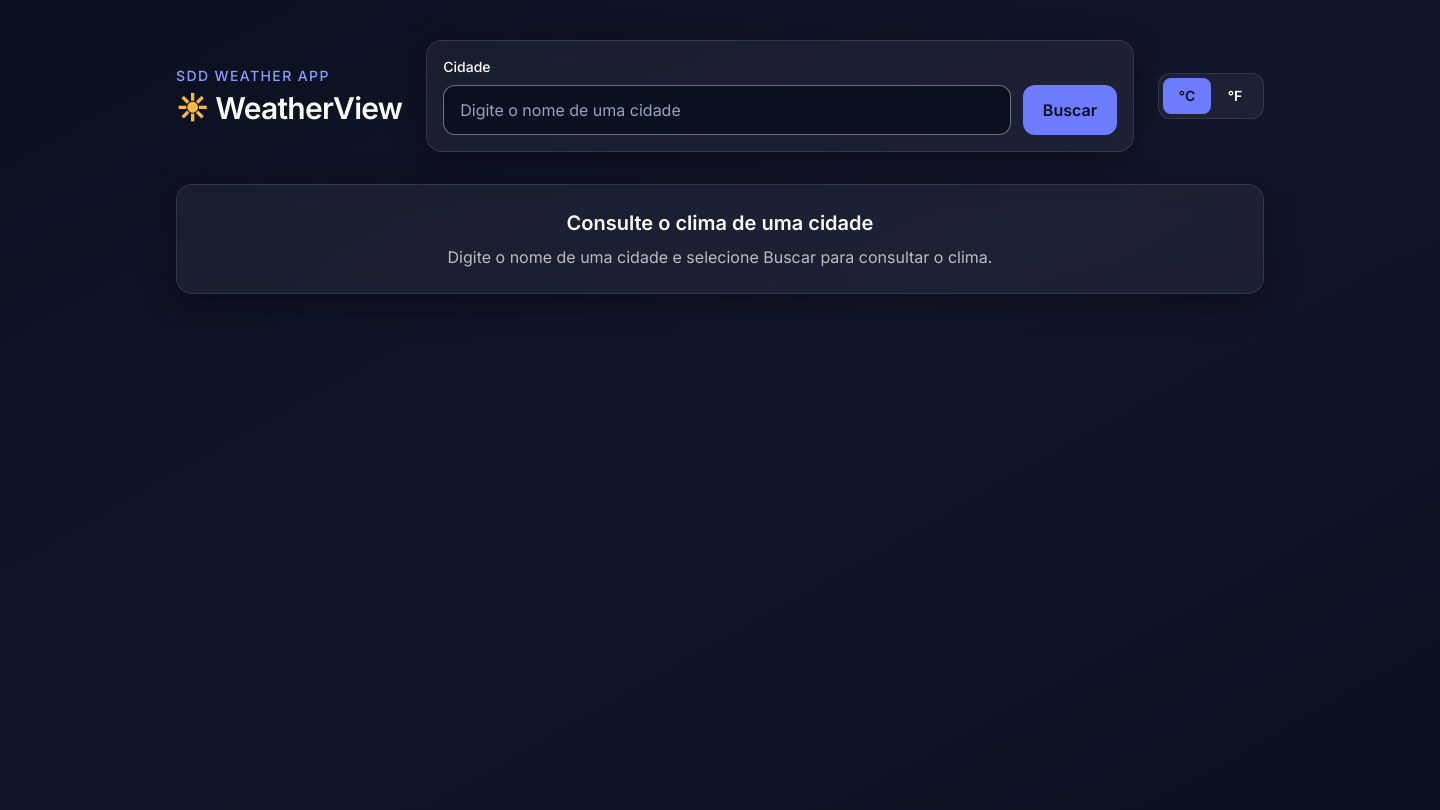
App integrado ao serviço (fetch stubado) › exibe resposta parcial com campos e dias ausentes como Indisponível (AC-02.4/03.5)
This screenshot has width=1440, height=810.
Type "São Paulo" into the search field at (727, 110), box [443,85,1011,135]
Then press Enter
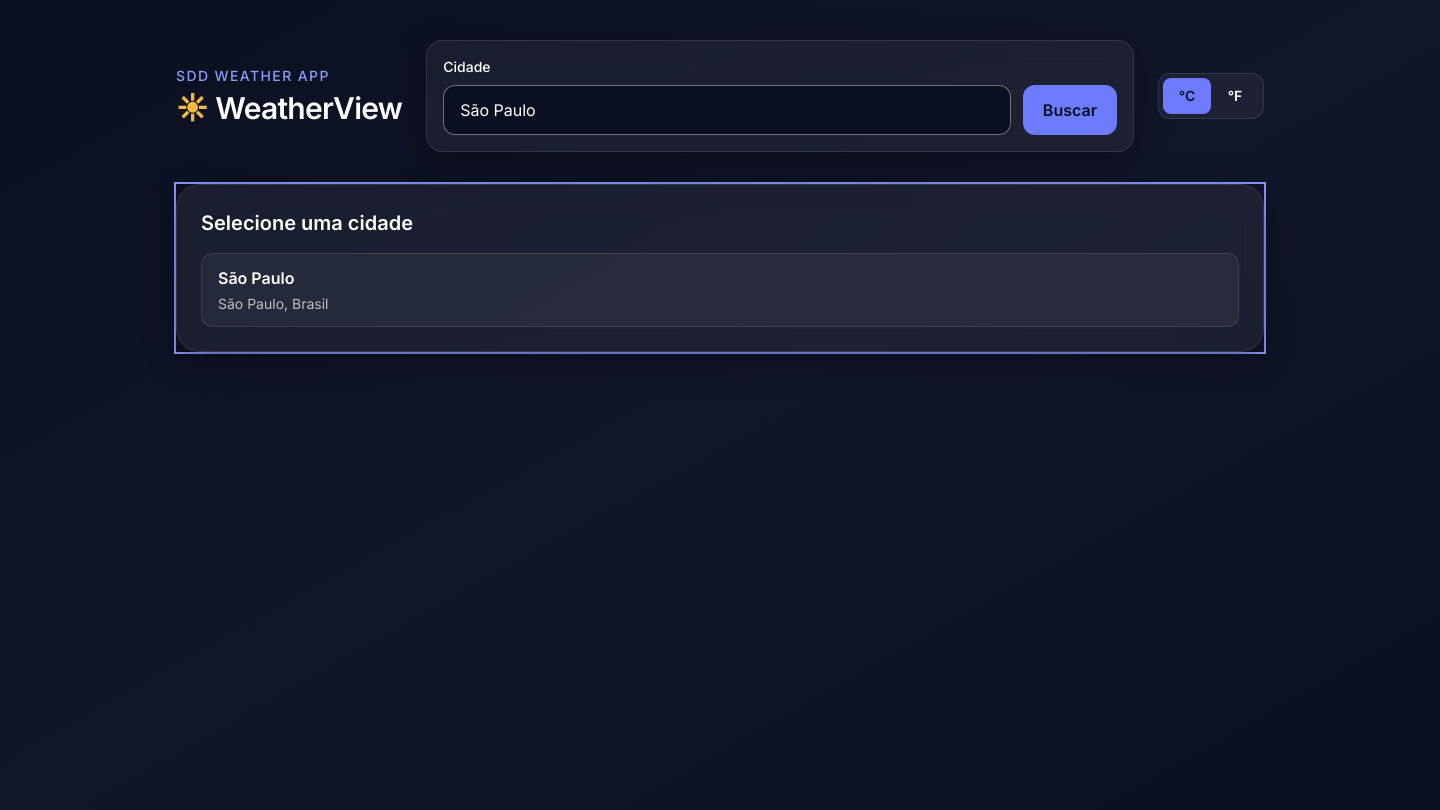
Click the button "São Paulo São Paulo, Brasil" at (256, 278), box [201,253,1239,327]
(page scrolled)
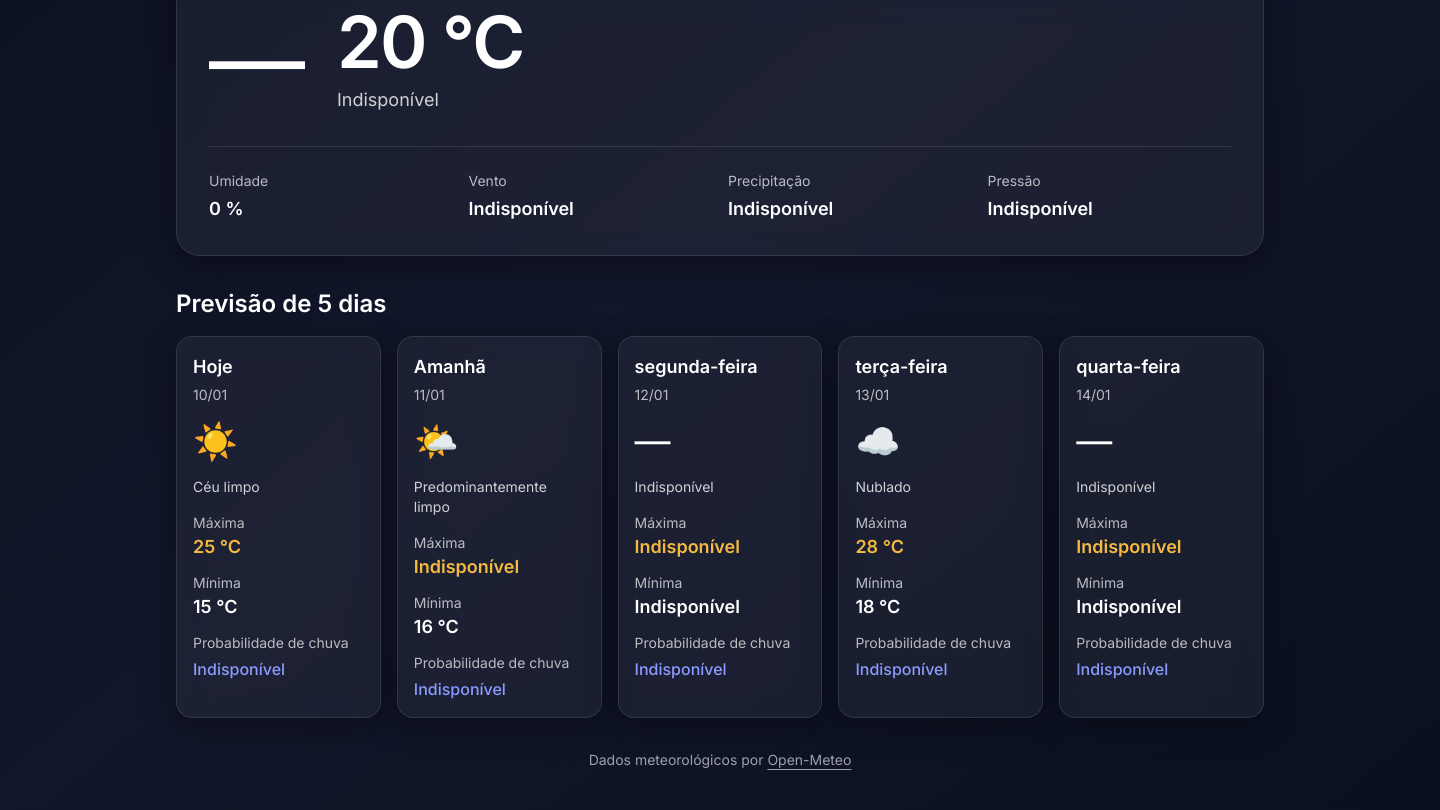
Check: the text named "Temperatura: 20 °C" is shown, box [337,6,523,78]
Check: the text "0 %" is shown, box [209,198,244,219]
Check: the text "Indisponível" is shown 4 times, box [337,89,439,110]; [468,198,574,219]; [728,198,833,219]; [988,198,1093,219]
